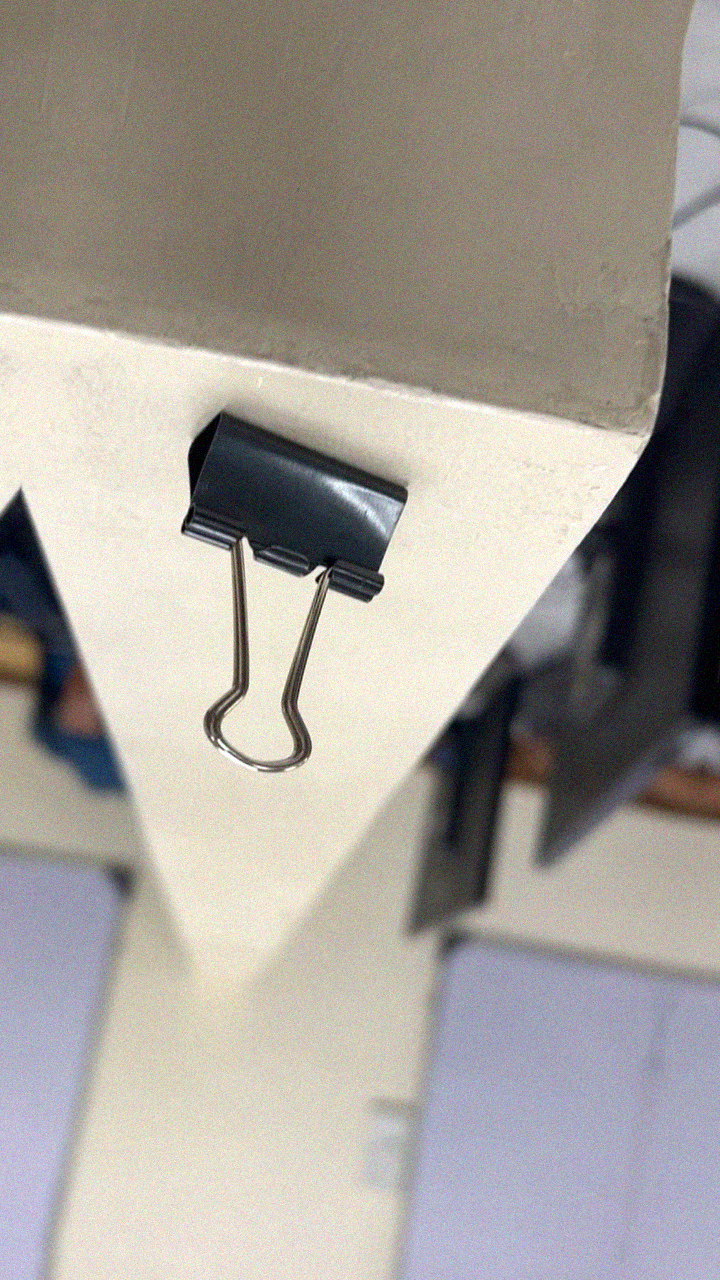kep_giay: (131, 409, 419, 793)
